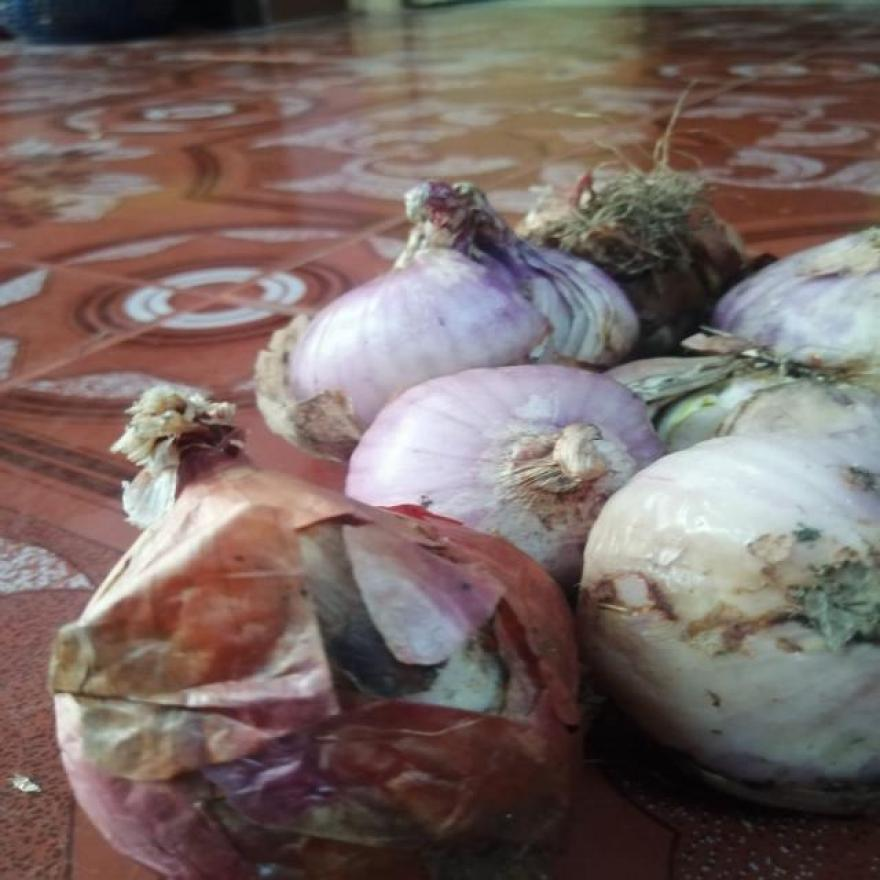Rotten: (453, 233, 604, 358), (742, 536, 866, 686), (678, 360, 802, 446)
